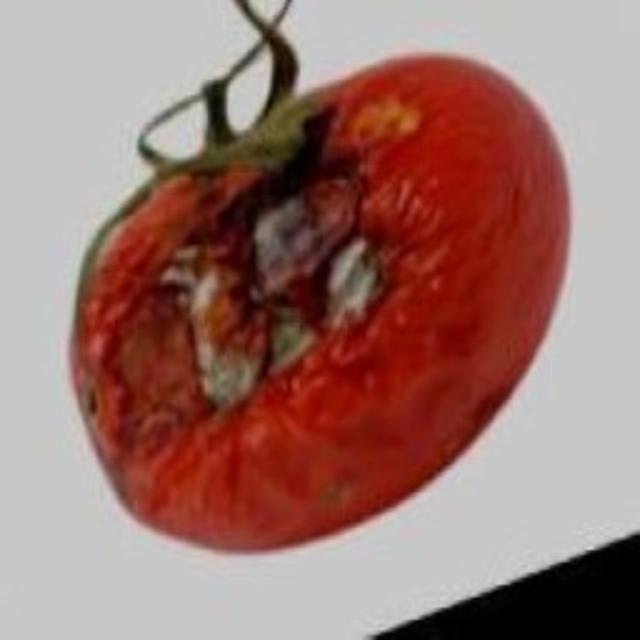defect: (72, 2, 575, 552)
